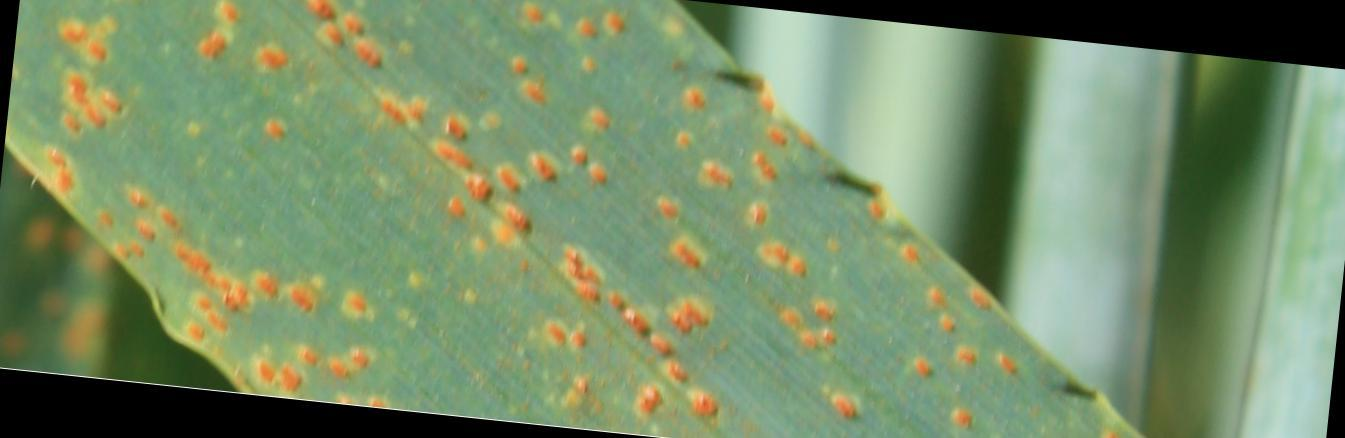Wheat: (285, 0, 622, 325), (740, 94, 873, 434), (19, 0, 296, 152), (640, 85, 737, 426), (894, 243, 1026, 431)
